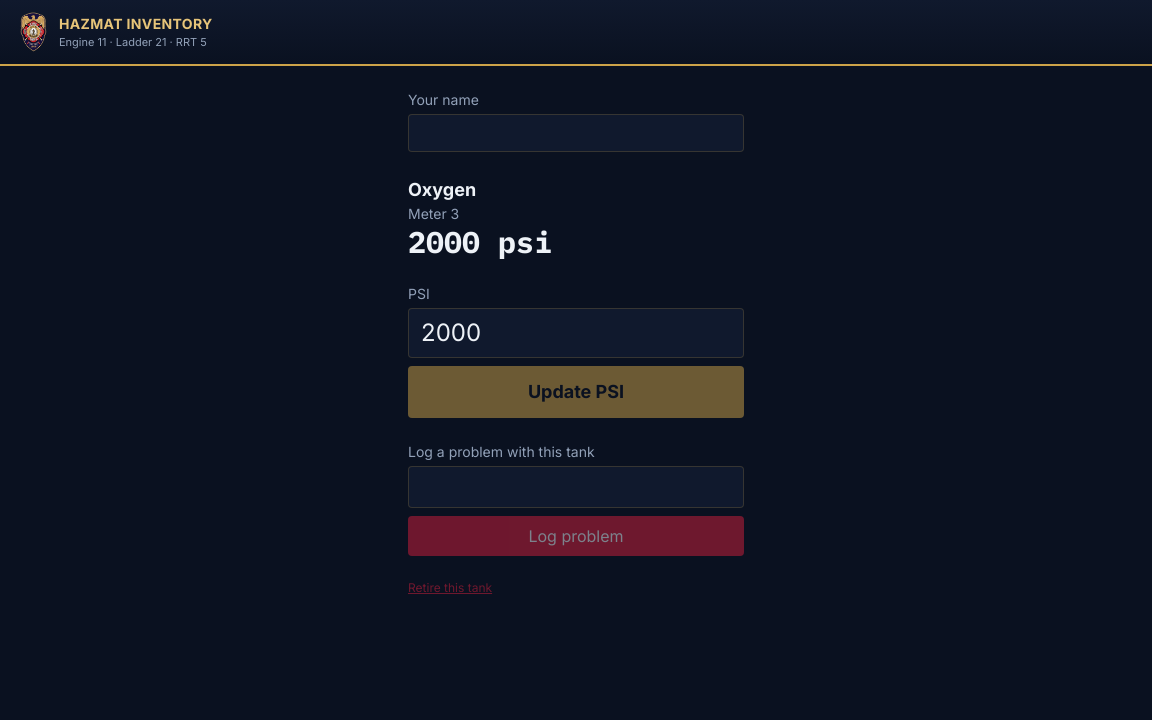
Test: ScanTankPage › shows a name input; entering a name enables the disabled Update PSI button
Check: the heading "Oxygen" is shown, box [408, 179, 476, 200]
Check: the button "Update PSI" is disabled, box [408, 366, 744, 418]
Step 1. Type "A. Lee" into the field labelled "Your name" → (576, 133), box [408, 114, 744, 152]
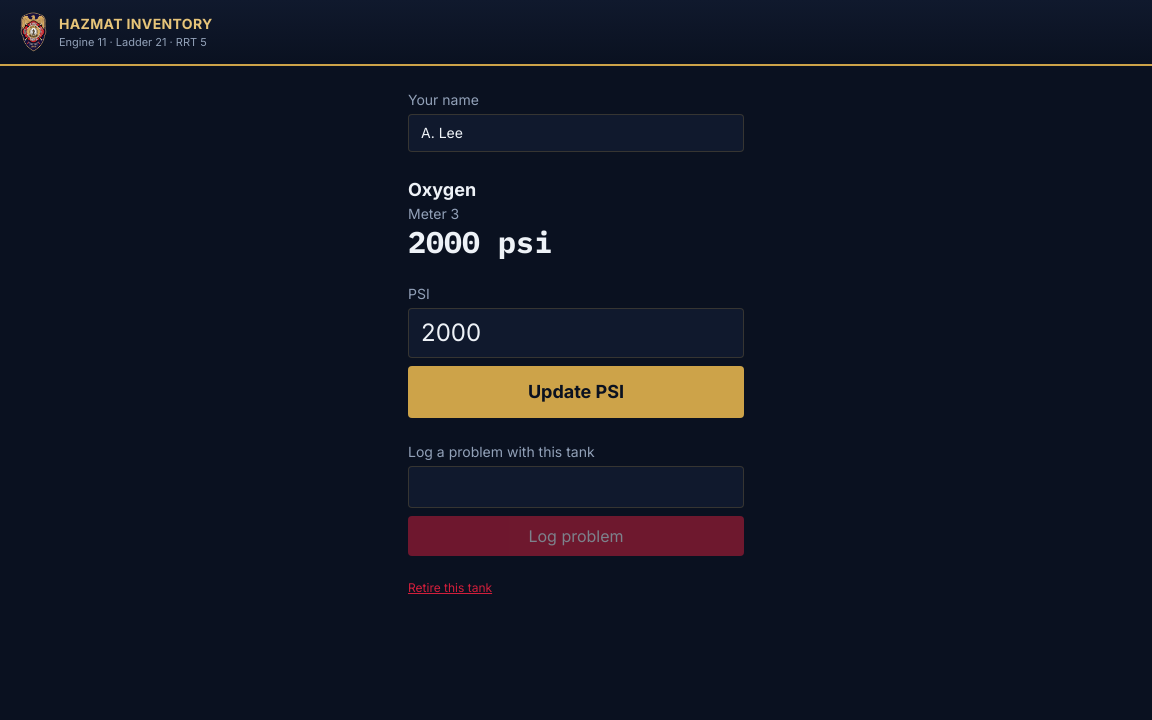
Check: the button "Update PSI" is enabled, box [408, 366, 744, 418]
